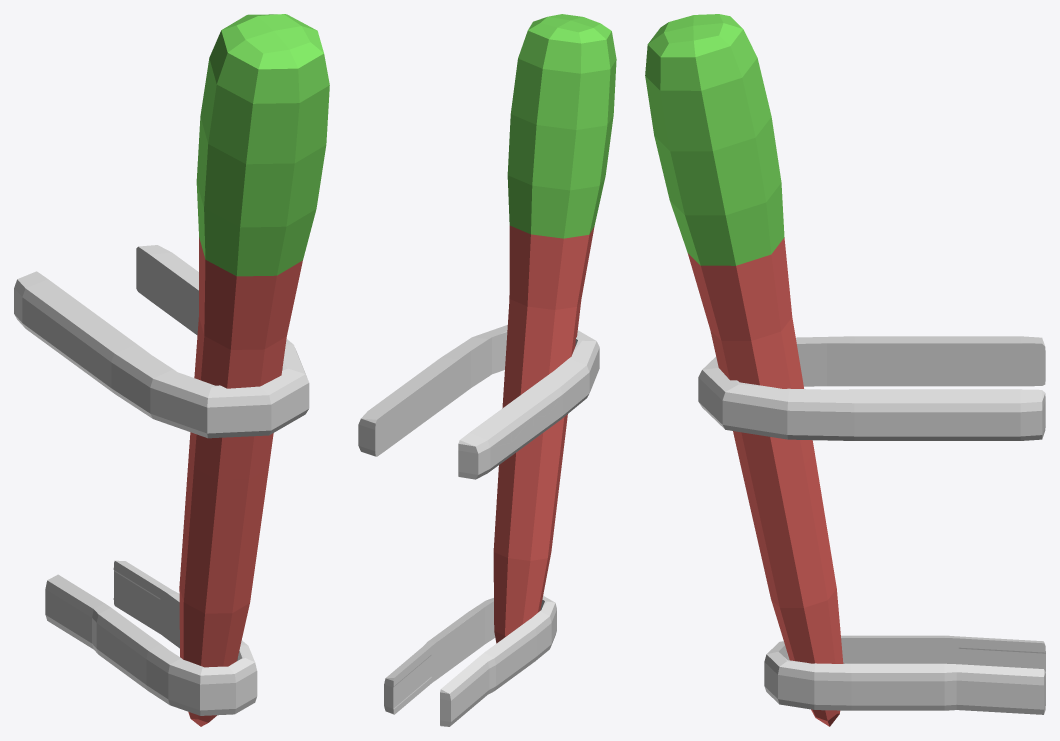
Rendered from torch.glb.
3 renders of one model, left to right at view 1: azimuth 30°, elevation 25°; view 2: azimuth 150°, elevation 25°; view 3: azimuth 270°, elevation 25°, orthographic. The views are drawn at different scales.
Parts seen in each view (by area): view 1: Cube.001, Cube.002, Cube.004; view 2: Cube.001, Cube.002, Cube.004; view 3: Cube.001, Cube.002, Cube.004.
Boxes of the visible parts, x1,y1,x2,y2 form: Cube.001: [179, 14, 329, 726]; Cube.002: [14, 245, 309, 438]; Cube.004: [45, 560, 257, 715]; Cube.001: [493, 14, 616, 643]; Cube.002: [358, 325, 599, 479]; Cube.004: [384, 595, 556, 726]; Cube.001: [645, 14, 843, 726]; Cube.002: [698, 336, 1045, 440]; Cube.004: [764, 635, 1045, 714].
Bounding box in the file's own units: 0.4 × 1.88 × 0.9699.
